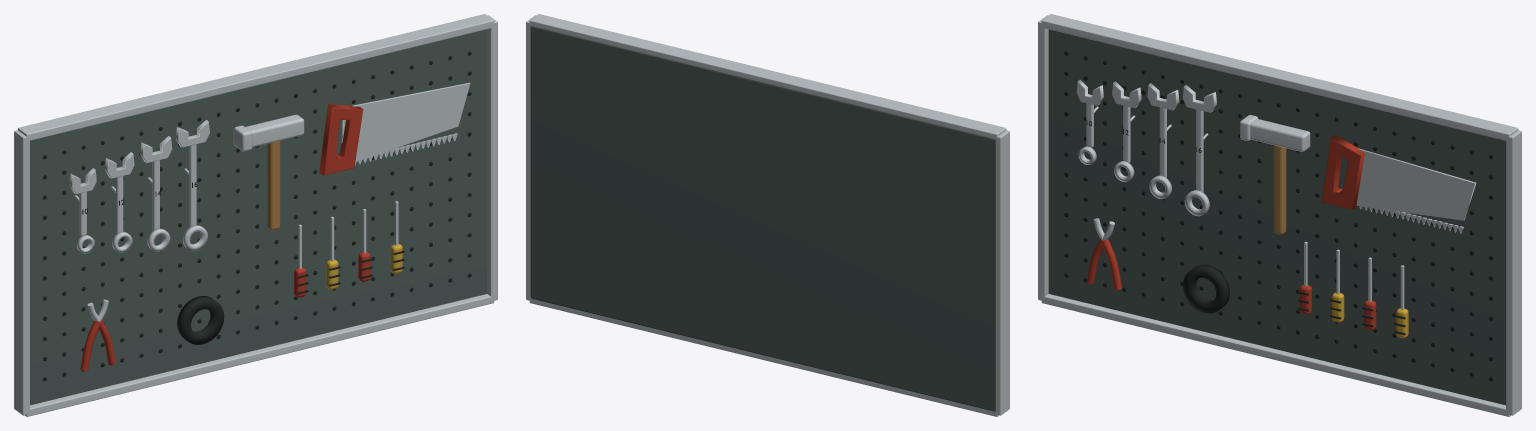
Rendered from garaz_narzedzia.glb.
3 views of the same model, side by side, from view 1: azimuth 30°, elevation 25°; view 2: azimuth 150°, elevation 25°; view 3: azimuth 330°, elevation 25° (orthographic).
Visible parts, largest first — view 1: Tablica_narzedzi; view 2: Tablica_narzedzi; view 3: Tablica_narzedzi.
Boxes of the visible parts, x1,y1,x2,y2 form: Tablica_narzedzi: (14, 14, 497, 416); Tablica_narzedzi: (526, 14, 1009, 416); Tablica_narzedzi: (1038, 14, 1521, 416).
Size of the model in its own units: 1.62 by 0.925 by 0.1125.
